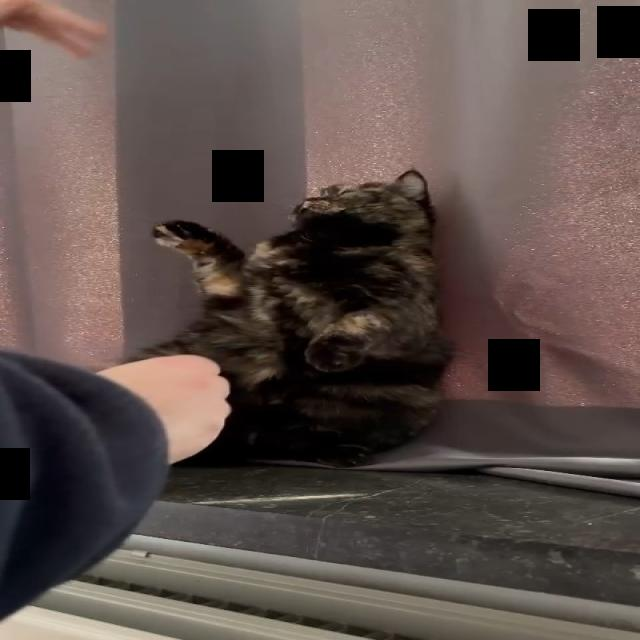authorized: (123, 167, 456, 468)
